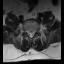CCS_normal: (29, 29, 32, 38)
LFS_stenosis: (34, 29, 36, 34)
LLS_normal: (32, 29, 34, 37)
RFS_stenosis: (25, 28, 27, 34)
RLS_normal: (27, 30, 30, 37)
